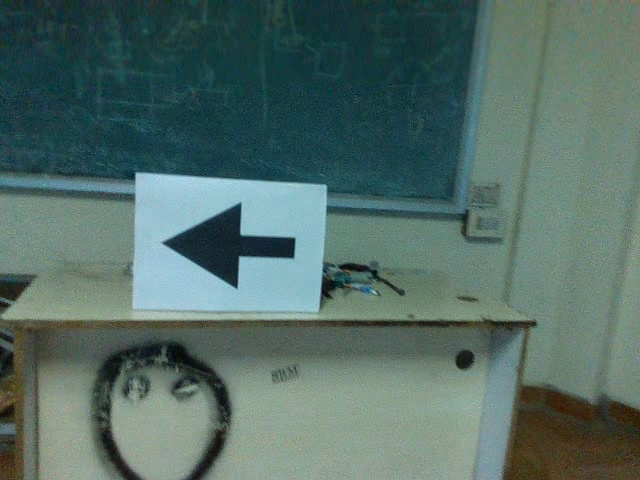Left: (152, 195, 300, 297)
